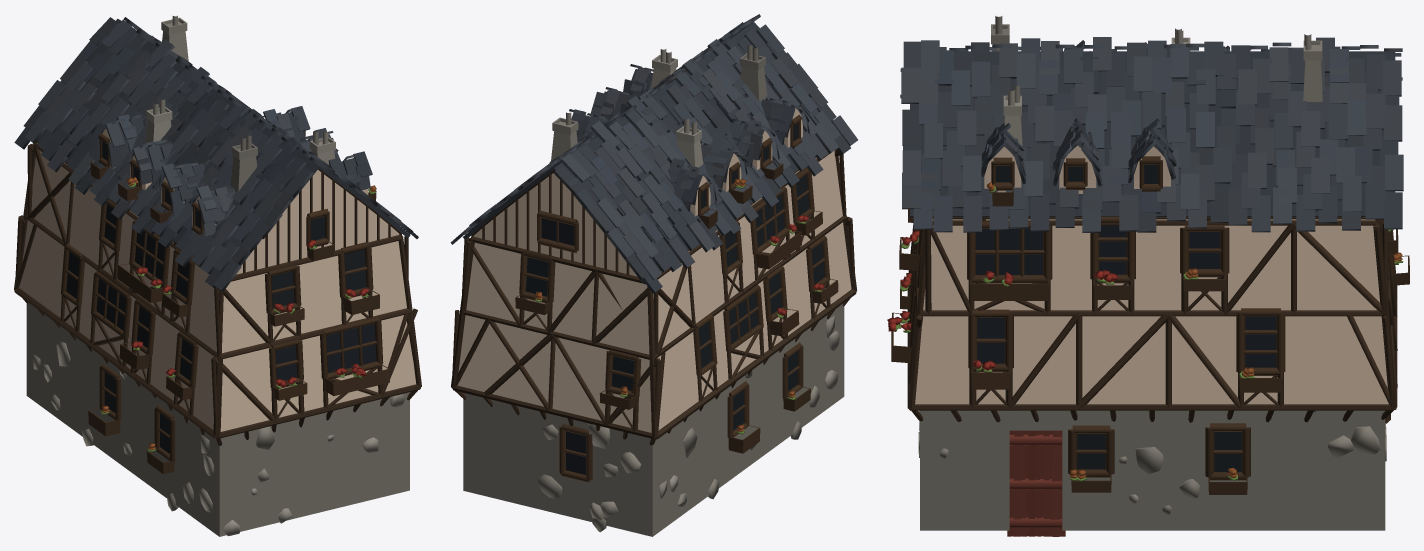
The model's file is house_44.glb.
The picture shows the model from 3 angles, left to right: view 1: azimuth 30°, elevation 25°; view 2: azimuth 150°, elevation 25°; view 3: azimuth 270°, elevation 25°; orthographic projection. The views are drawn at different scales.
Parts seen in each view (by area): view 1: house_44; view 2: house_44; view 3: house_44.
Boxes of the visible parts, x1,y1,x2,y2 form: house_44: [14, 15, 421, 536]; house_44: [450, 14, 857, 536]; house_44: [887, 16, 1409, 536].
Bounding box in the file's own units: 5.5 × 8.85 × 9.03.
